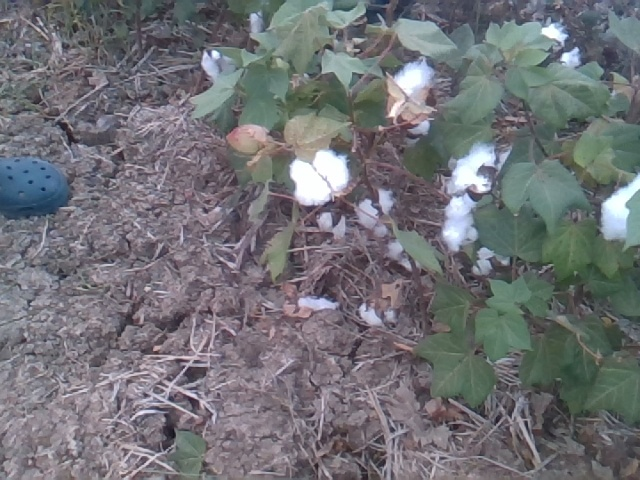cotton: (291, 148, 348, 207), (446, 142, 497, 196), (600, 172, 640, 239), (444, 196, 476, 250), (391, 59, 432, 94), (473, 245, 510, 274), (353, 197, 380, 229), (357, 302, 395, 324), (202, 50, 229, 76), (540, 22, 567, 45), (299, 294, 337, 310), (408, 118, 431, 140), (561, 47, 580, 67), (378, 189, 393, 213), (246, 11, 261, 32)
